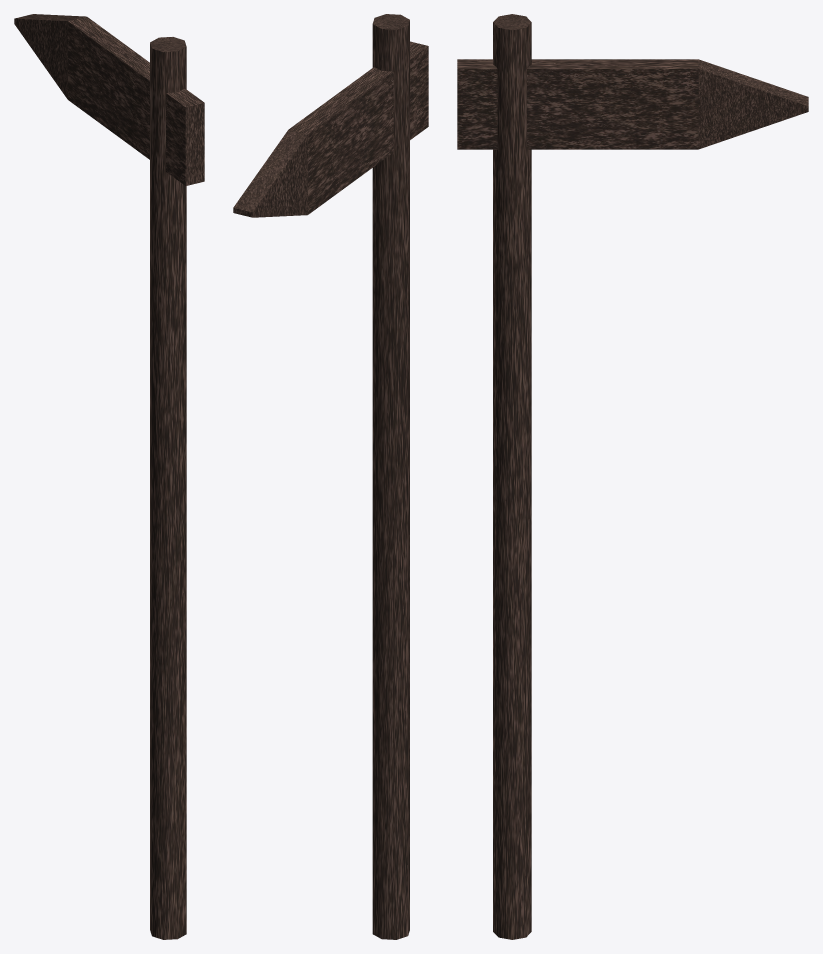
File: Sign.fbx
3 views of the same model, side by side, from view 1: azimuth 30°, elevation 25°; view 2: azimuth 150°, elevation 25°; view 3: azimuth 270°, elevation 25° (orthographic). The views are drawn at different scales.
Parts seen in each view (by area): view 1: Cylinder, Cube; view 2: Cylinder, Cube; view 3: Cylinder, Cube.
Boxes of the visible parts, x1=… form: Cylinder: x1=150, y1=37, x2=186, y2=939; Cube: x1=14, y1=14, x2=204, y2=185; Cylinder: x1=372, y1=14, x2=409, y2=939; Cube: x1=233, y1=41, x2=428, y2=217; Cylinder: x1=493, y1=14, x2=531, y2=939; Cube: x1=457, y1=59, x2=808, y2=149.
Size of the model in its own units: 24 by 623 by 218.
